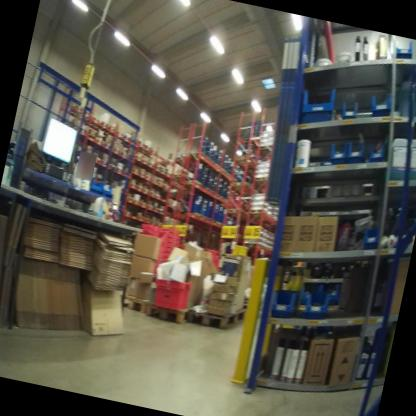pallet: (185, 293, 249, 340), (143, 295, 198, 334), (116, 293, 153, 321)
small_load_carrier: (146, 271, 199, 315), (137, 222, 158, 235)
